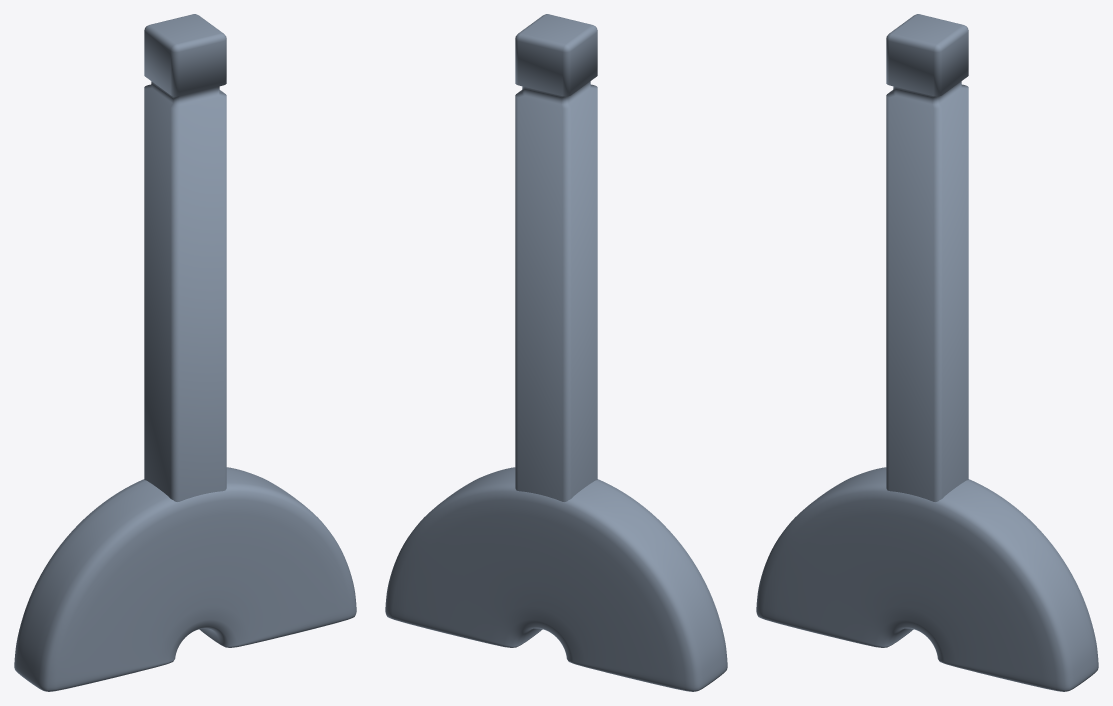
File: Salter.fbx
The picture shows the model from 3 angles, left to right: view 1: azimuth 30°, elevation 25°; view 2: azimuth 150°, elevation 25°; view 3: azimuth 330°, elevation 25°; orthographic projection.
Parts seen in each view (by area): view 1: Circle, Roundcube.003; view 2: Circle, Roundcube.003; view 3: Circle, Roundcube.003.
Part boxes in pixels (box(x1,y1,x2,y2)): Circle: box(14, 467, 356, 691); Roundcube.003: box(144, 14, 226, 501); Circle: box(385, 467, 727, 691); Roundcube.003: box(515, 14, 597, 501); Circle: box(756, 467, 1098, 691); Roundcube.003: box(886, 14, 968, 501).
Bounding box in the file's own units: 123 × 24.68 × 230.
